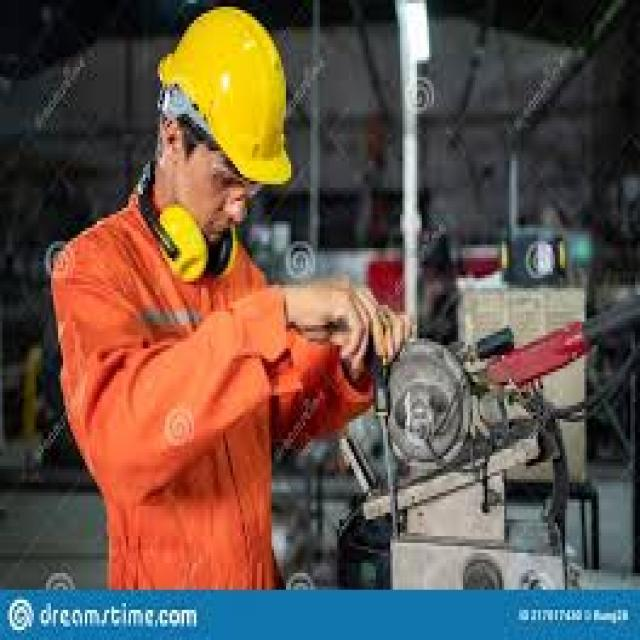screwdriver: (362, 315, 406, 546)
